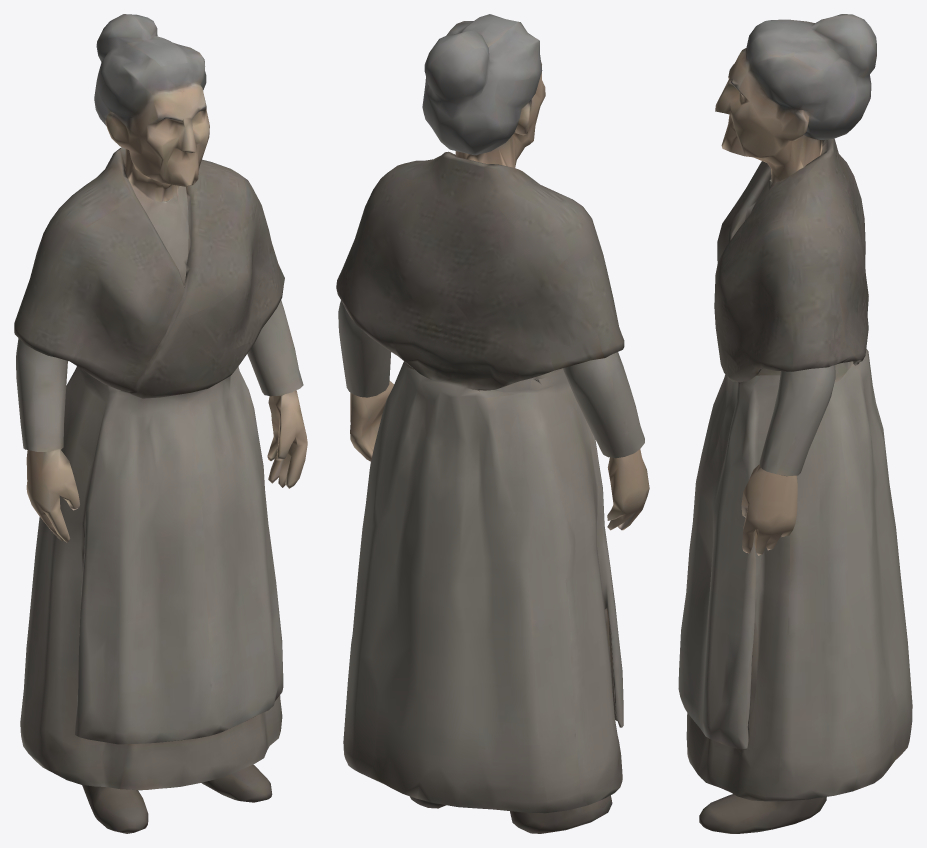
Rendered from figure_villager_f-CqpCLN82.glb.
3 renders of one model, left to right at view 1: azimuth 30°, elevation 25°; view 2: azimuth 150°, elevation 25°; view 3: azimuth 270°, elevation 25°, orthographic. The views are drawn at different scales.
Parts seen in each view (by area): view 1: geom0; view 2: geom0; view 3: geom0.
Boxes of the visible parts, bbox=[...] form: geom0: bbox=[14, 14, 307, 833]; geom0: bbox=[336, 14, 649, 833]; geom0: bbox=[678, 14, 912, 833].
Bounding box in the file's own units: 0.3821 × 1 × 0.2731.
1 material, 1 textured.
